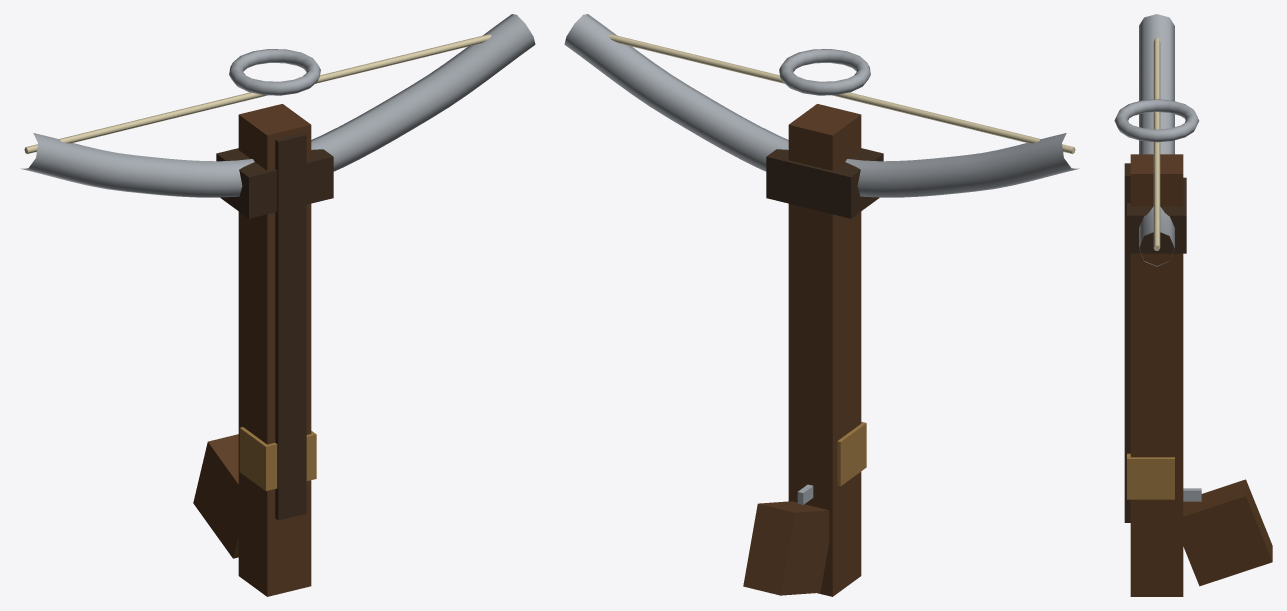
The model's file is crossbow-v1.glb.
The picture shows the model from 3 angles, left to right: view 1: azimuth 30°, elevation 25°; view 2: azimuth 150°, elevation 25°; view 3: azimuth 270°, elevation 25°; orthographic projection. The views are drawn at different scales.
Parts seen in each view (by area): view 1: WeaponDrawn; view 2: WeaponDrawn; view 3: WeaponDrawn.
Boxes of the visible parts, box(x1,y1,x2,y2) form: WeaponDrawn: box(20, 14, 535, 596); WeaponDrawn: box(564, 14, 1079, 596); WeaponDrawn: box(1114, 14, 1272, 596).
Bounding box in the file's own units: 0.9044 × 0.8707 × 0.2643.
